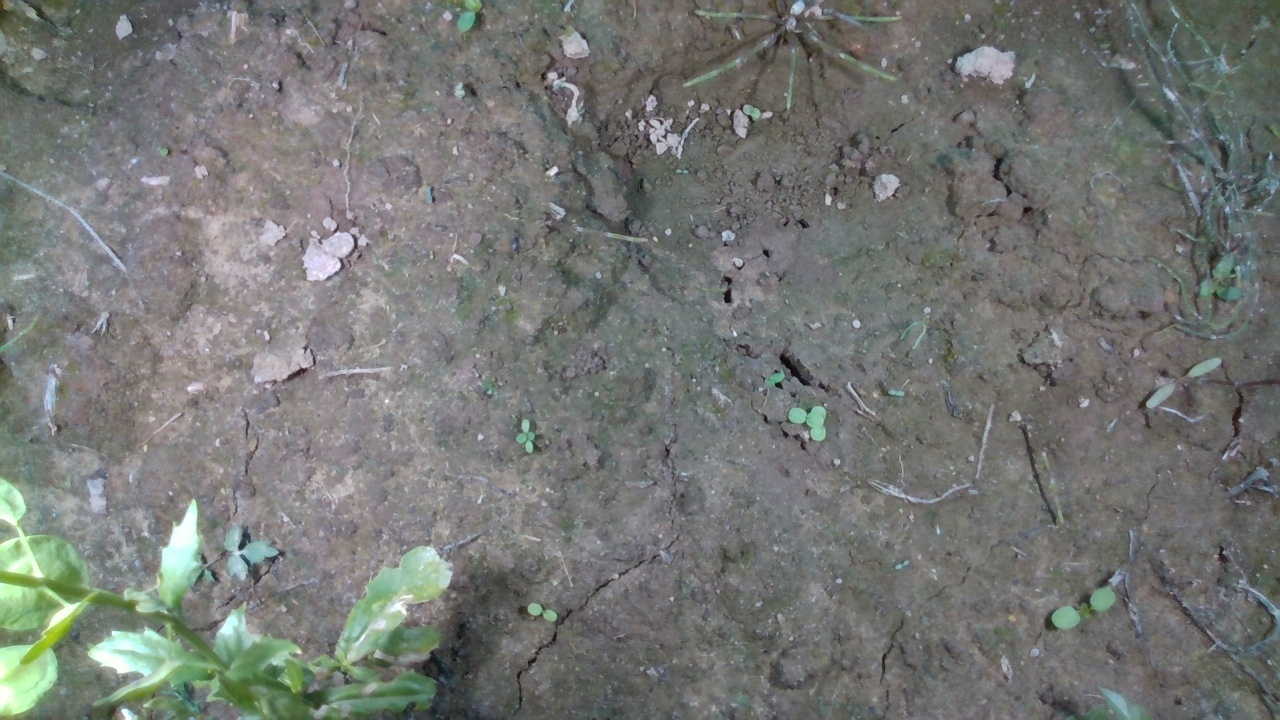weed: (1050, 587, 1118, 631), (508, 414, 550, 457), (524, 600, 560, 623)
